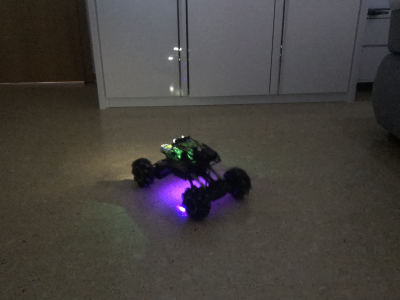remote control car: (126, 134, 252, 221)
